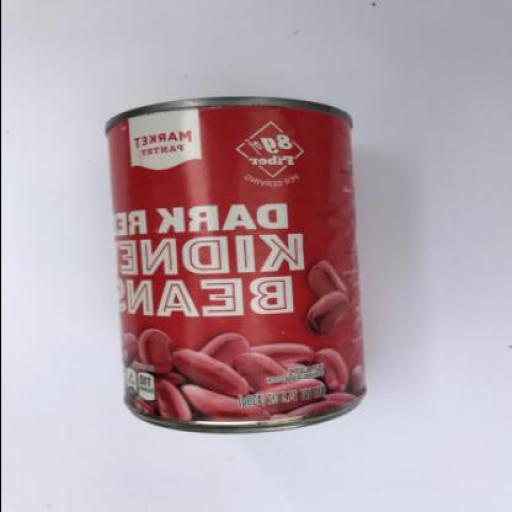metal: (105, 98, 364, 436)
